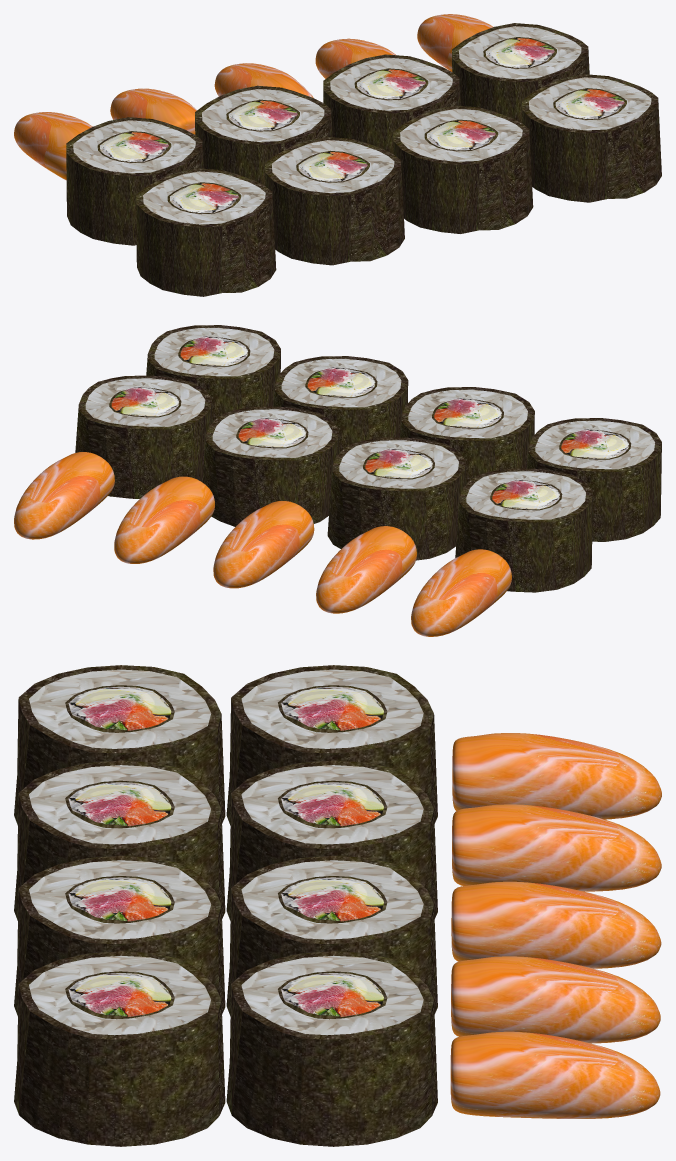
Rendered from sushi platter.fbx.
3 views of the same model, one above another, from view 1: azimuth 30°, elevation 25°; view 2: azimuth 150°, elevation 25°; view 3: azimuth 270°, elevation 25° (orthographic). The views are drawn at different scales.
Parts seen in each view (by area): view 1: pasted__pCylinder1 (×3), pasted__pasted__pCylinder1 (×3), pCylinder1, pasted__pasted__pasted__pCylinder1, polySurface2, polySurface3, polySurface6, polySurface4, polySurface5; view 2: pasted__pasted__pCylinder1 (×3), pasted__pCylinder1 (×3), pasted__pasted__pasted__pCylinder1, pCylinder1, polySurface5, polySurface6, polySurface2, polySurface4, polySurface3; view 3: pasted__pCylinder1 (×3), pasted__pasted__pCylinder1 (×3), pCylinder1, pasted__pasted__pasted__pCylinder1, polySurface6, polySurface3, polySurface5, polySurface4, polySurface2.
Part boxes in pixels (bbox=[...]): pasted__pCylinder1 (×3): bbox=[265, 23, 589, 265]; pasted__pasted__pCylinder1 (×3): bbox=[136, 54, 460, 296]; pCylinder1: bbox=[522, 74, 661, 202]; pasted__pasted__pasted__pCylinder1: bbox=[66, 117, 203, 245]; polySurface2: bbox=[14, 112, 92, 180]; polySurface3: bbox=[110, 88, 197, 134]; polySurface6: bbox=[417, 14, 492, 71]; polySurface4: bbox=[214, 63, 313, 97]; polySurface5: bbox=[315, 38, 395, 78]; pasted__pasted__pCylinder1 (×3): bbox=[202, 406, 661, 560]; pasted__pCylinder1 (×3): bbox=[75, 356, 534, 498]; pasted__pasted__pasted__pCylinder1: bbox=[455, 468, 592, 592]; pCylinder1: bbox=[146, 325, 280, 422]; polySurface5: bbox=[114, 476, 214, 563]; polySurface6: bbox=[14, 452, 114, 539]; polySurface2: bbox=[411, 549, 511, 636]; polySurface4: bbox=[213, 501, 314, 588]; polySurface3: bbox=[316, 526, 416, 613]; pasted__pCylinder1 (×3): bbox=[14, 760, 437, 1146]; pasted__pasted__pCylinder1 (×3): bbox=[14, 665, 437, 1016]; pCylinder1: bbox=[14, 951, 225, 1146]; pasted__pasted__pasted__pCylinder1: bbox=[226, 665, 437, 825]; polySurface6: bbox=[450, 1031, 660, 1118]; polySurface3: bbox=[452, 804, 661, 891]; polySurface5: bbox=[451, 956, 660, 1043]; polySurface4: bbox=[451, 881, 661, 968]; polySurface2: bbox=[452, 733, 661, 819].
Size of the model in its own units: 18.08 by 2.54 by 13.14.
38 materials, 37 textured.
